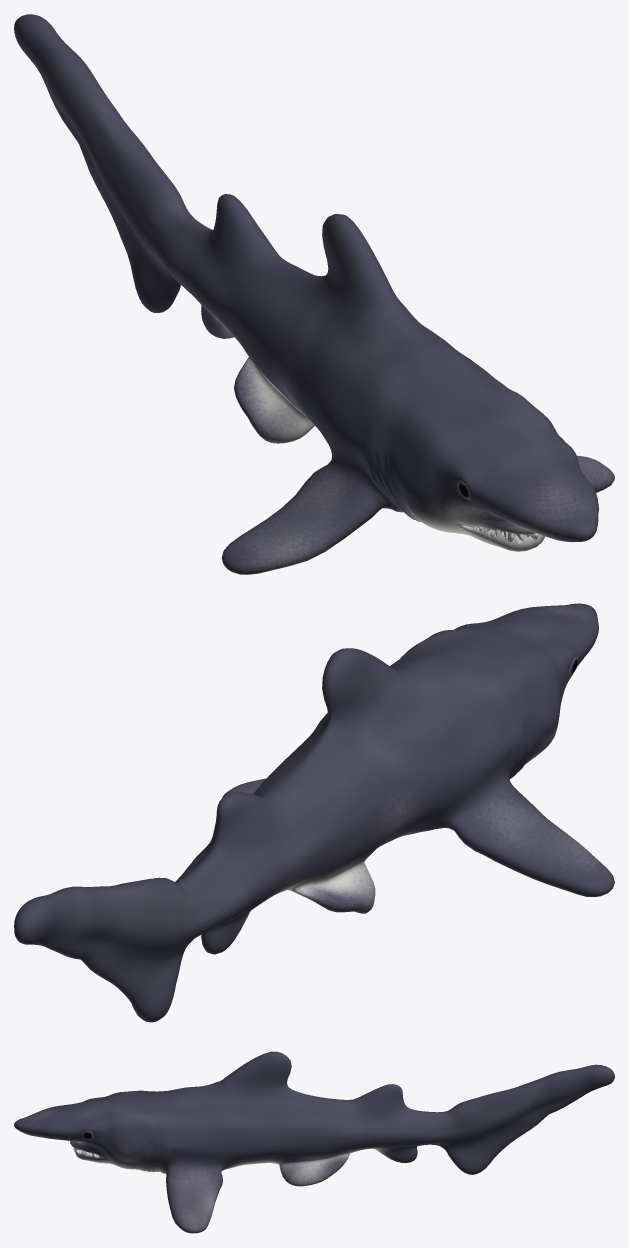
File: goblinshark2.glb
The picture shows the model from 3 angles, top to bottom: view 1: azimuth 30°, elevation 25°; view 2: azimuth 150°, elevation 25°; view 3: azimuth 270°, elevation 25°; orthographic projection. The views are drawn at different scales.
Parts seen in each view (by area): view 1: node_id4_1; view 2: node_id4_1; view 3: node_id4_1.
Part boxes in pixels (<box>): node_id4_1: <box>14,14,614,574</box>; node_id4_1: <box>14,603,614,1022</box>; node_id4_1: <box>14,1051,614,1233</box>.
Size of the model in its own units: 1.99 by 1.26 by 5.12.
1 material, 1 textured.
